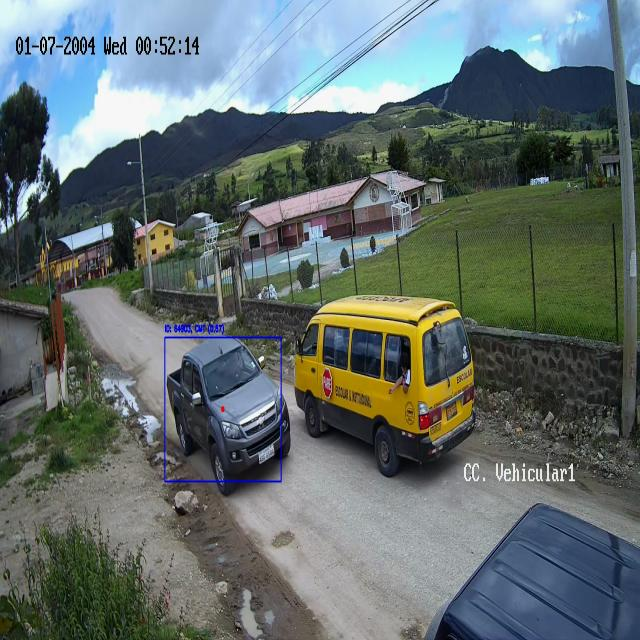BUS: (294, 297, 477, 478)
CMT: (168, 340, 290, 493)
